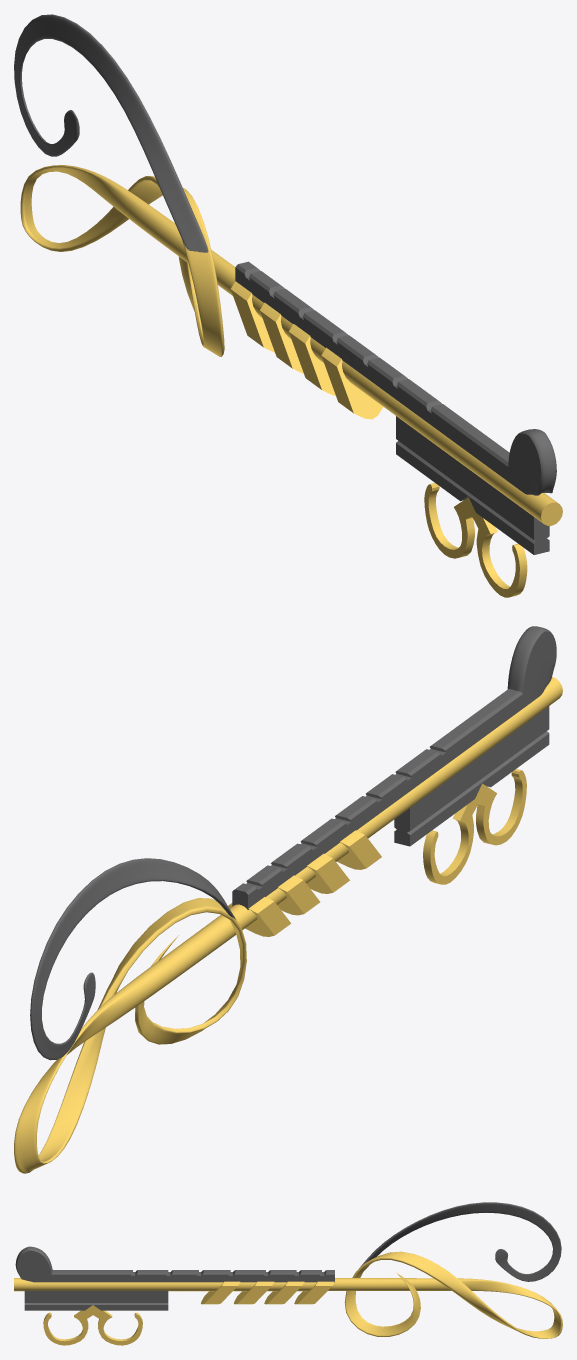
The model's file is key.glb.
3 views of the same model, one above another, from view 1: azimuth 30°, elevation 25°; view 2: azimuth 150°, elevation 25°; view 3: azimuth 270°, elevation 25° (orthographic). The views are drawn at different scales.
Parts seen in each view (by area): view 1: Cylinder.003, Cylinder.001, Cylinder, Cylinder.002, Plane; view 2: Cylinder.003, Cylinder.001, Cylinder, Cylinder.002, Plane; view 3: Cylinder.003, Cylinder, Cylinder.001, Cylinder.002, Plane.
Boxes of the visible parts, bbox=[...] form: Cylinder.003: bbox=[14, 14, 235, 356]; Cylinder.001: bbox=[235, 261, 556, 495]; Cylinder: bbox=[252, 294, 562, 554]; Cylinder.002: bbox=[230, 281, 383, 419]; Plane: bbox=[424, 483, 527, 597]; Cylinder.003: bbox=[14, 858, 257, 1173]; Cylinder.001: bbox=[232, 626, 556, 909]; Cylinder: bbox=[266, 676, 562, 904]; Cylinder.002: bbox=[228, 830, 381, 936]; Plane: bbox=[423, 769, 526, 884]; Cylinder.003: bbox=[328, 1202, 562, 1338]; Cylinder: bbox=[14, 1278, 316, 1310]; Cylinder.001: bbox=[15, 1246, 334, 1282]; Cylinder.002: bbox=[201, 1281, 334, 1304]; Plane: bbox=[43, 1305, 142, 1345].
Bounding box in the file's own units: 0.4854 × 2.36 × 8.4.
